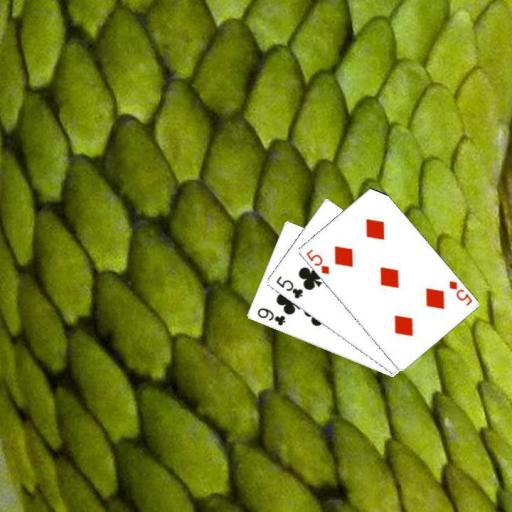5C: (273, 273, 305, 300)
5D: (302, 246, 331, 276), (445, 278, 474, 308)
9C: (254, 304, 287, 327)
